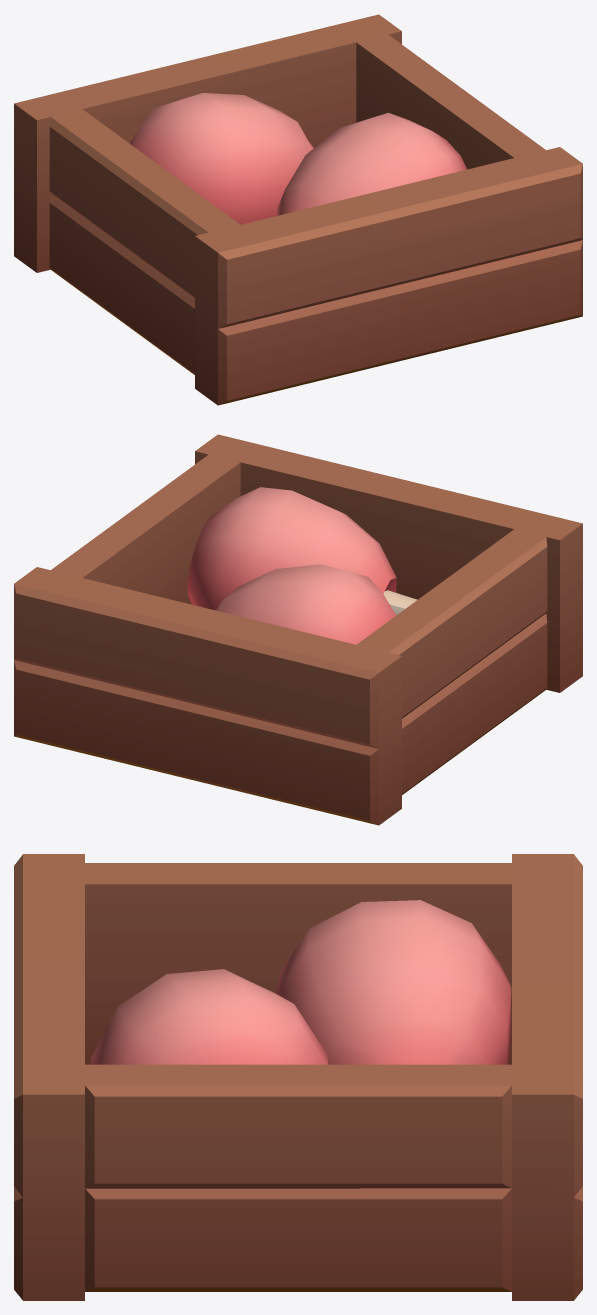
The model's file is kay-caixa-presuntos.gltf.
The picture shows the model from 3 angles, top to bottom: view 1: azimuth 30°, elevation 25°; view 2: azimuth 150°, elevation 25°; view 3: azimuth 270°, elevation 25°; orthographic projection. The views are drawn at different scales.
Visible parts, largest first — view 1: crate_ham; view 2: crate_ham; view 3: crate_ham.
Boxes of the visible parts, x1,y1,x2,y2 form: crate_ham: (14, 14, 582, 405); crate_ham: (14, 434, 582, 825); crate_ham: (14, 854, 582, 1300).
Size of the model in its own units: 1.3 by 0.5809 by 1.3.
Materials: 1 (1 with a texture image).
